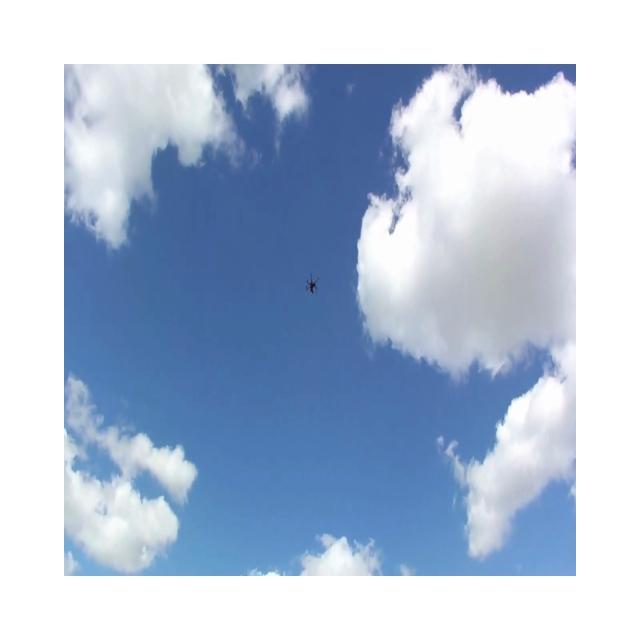drone: (305, 272, 319, 295)
